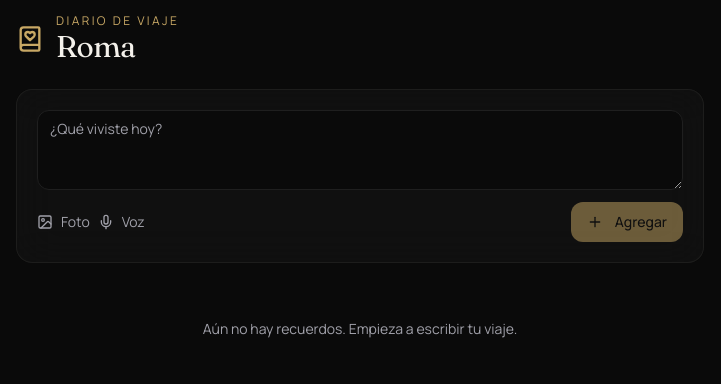
nota de voz en el diario (dictado del navegador, Web Speech API) › si Chrome corta tras un silencio, sigue grabando hasta que la persona lo detiene
Expected: the heading "Roma" is shown, [56,28,136,65]
Click the button with aria-label "Grabar nota de voz": (121, 222) [98,212,145,232]
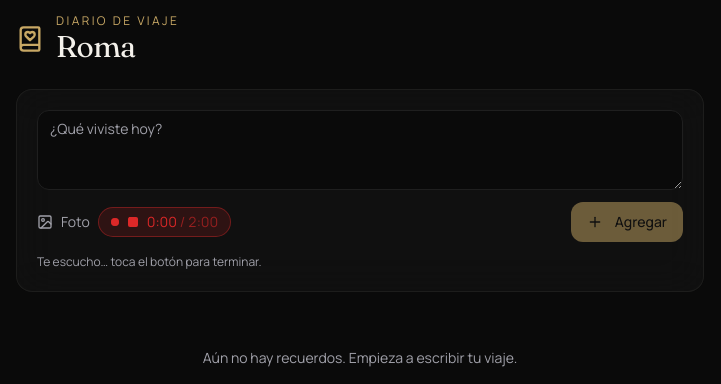
Now the element with test id "voice-timer" is shown, box [147,212,218,232]
